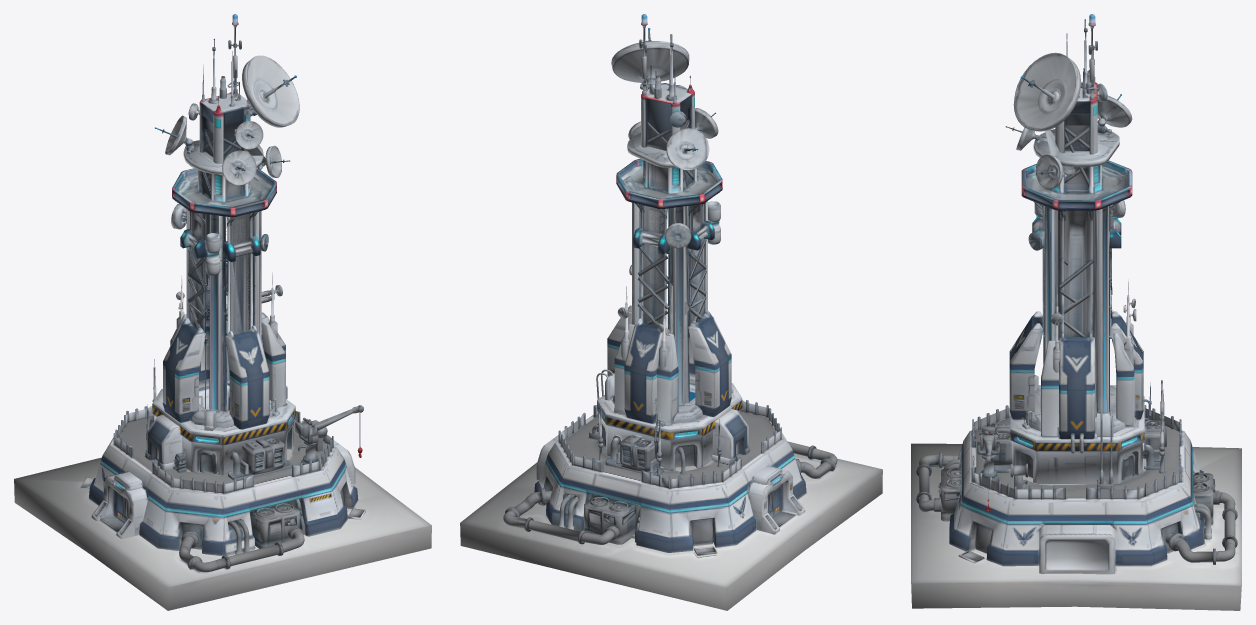
The model's file is 人類聯盟風_10通訊塔_設計圖.glb.
The picture shows the model from 3 angles, left to right: view 1: azimuth 30°, elevation 25°; view 2: azimuth 150°, elevation 25°; view 3: azimuth 270°, elevation 25°; orthographic projection. The views are drawn at different scales.
Parts seen in each view (by area): view 1: tripo_node_d5d347ad-67e4-49ab-9e93-c1751b15e16c; view 2: tripo_node_d5d347ad-67e4-49ab-9e93-c1751b15e16c; view 3: tripo_node_d5d347ad-67e4-49ab-9e93-c1751b15e16c.
Part boxes in pixels (box(x1,y1,x2,y2)): tripo_node_d5d347ad-67e4-49ab-9e93-c1751b15e16c: box(14, 14, 431, 610); tripo_node_d5d347ad-67e4-49ab-9e93-c1751b15e16c: box(460, 14, 882, 610); tripo_node_d5d347ad-67e4-49ab-9e93-c1751b15e16c: box(911, 14, 1241, 610).
Bounding box in the file's own units: 0.5493 × 0.9995 × 0.5571.
1 material, 1 textured.
